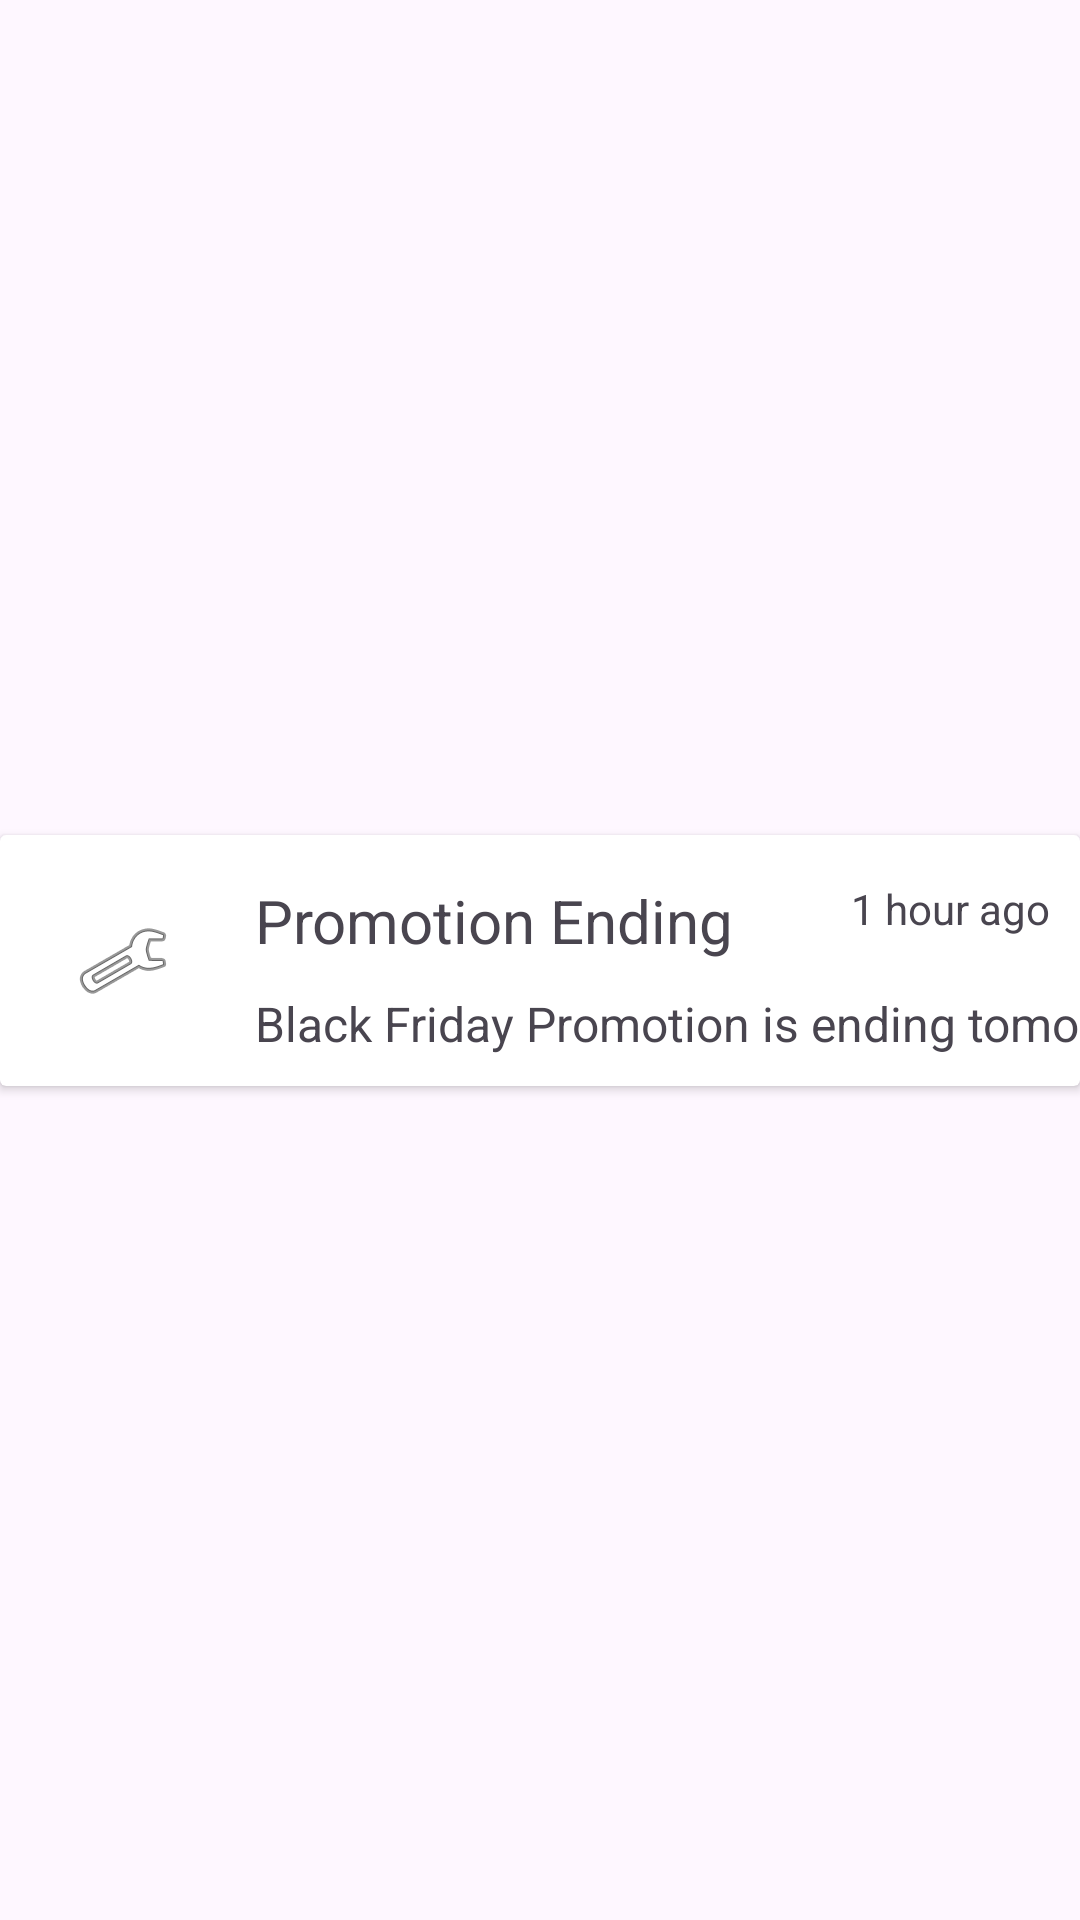

Icon bounding boxes for this 1080x1920 phone screenshot, format (x1, y1, x2, y2):
preferences: (80, 928, 166, 994)
